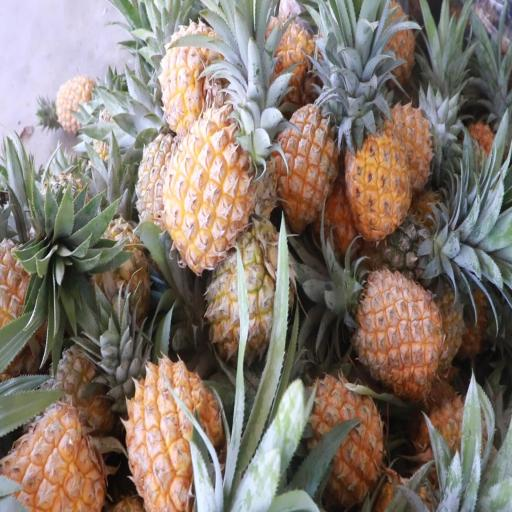------------------------------: (210, 234, 292, 365)
Pineapple - v8 v1: (131, 359, 222, 508), (166, 110, 252, 260), (0, 411, 103, 512), (304, 379, 386, 504), (358, 272, 442, 387), (270, 100, 339, 222), (347, 128, 413, 236), (163, 26, 229, 132), (267, 14, 318, 92)
